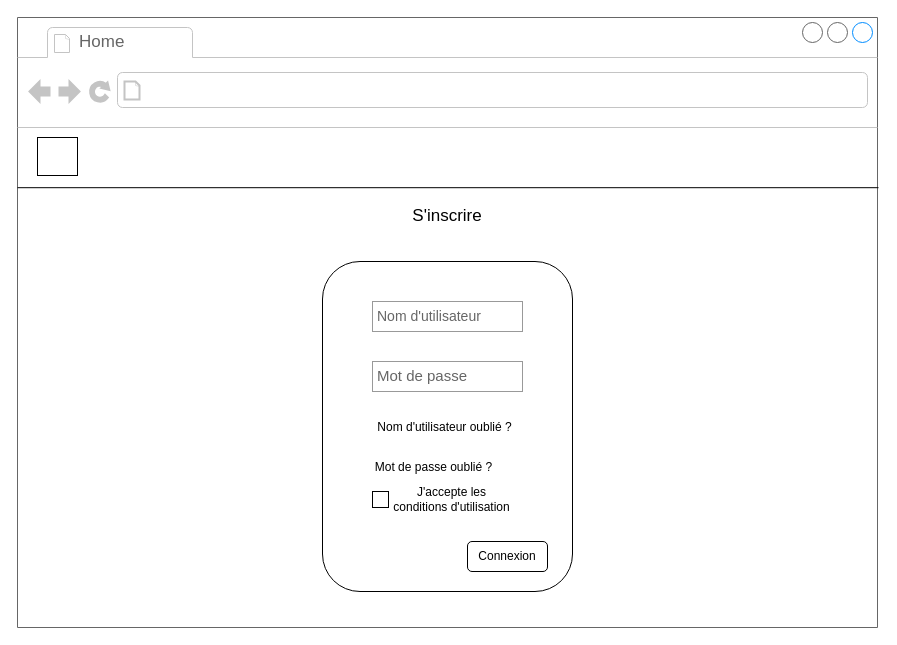
This 897x645 diagram has some shape labels left out. Here are the shapes that lost their labels. From the top down, the centre of each, then its label:
the point at 272,90: https://www.draw.io
the point at 57,156: Logo
